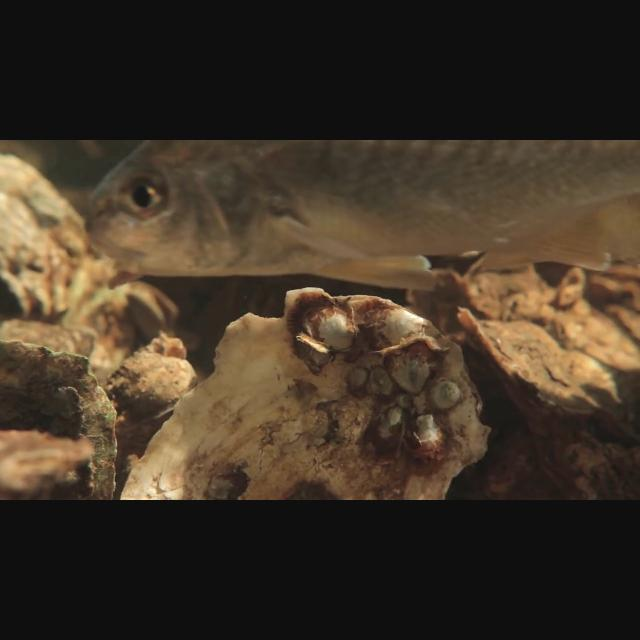Oyster-Closed: (119, 285, 493, 500), (455, 306, 626, 418), (0, 340, 119, 500), (104, 345, 200, 429)
